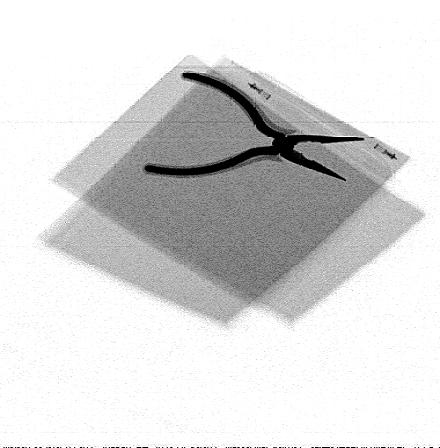Pliers: (139, 68, 369, 184)
